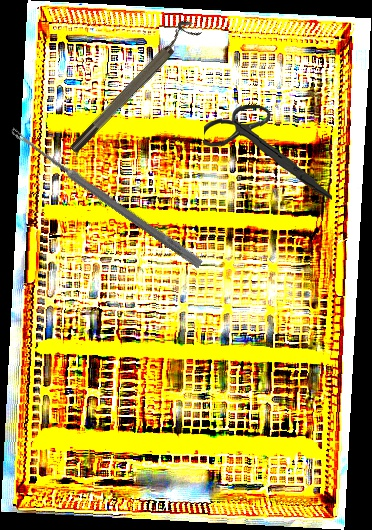Fixation Ring: (61, 15, 203, 157)
Iris Scissors: (200, 102, 337, 201)
Surgical Spoon: (7, 126, 205, 269)
